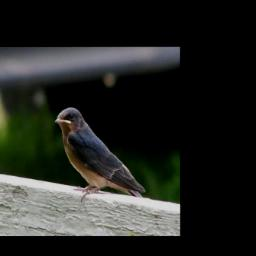Swallow: (54, 107, 147, 203)
